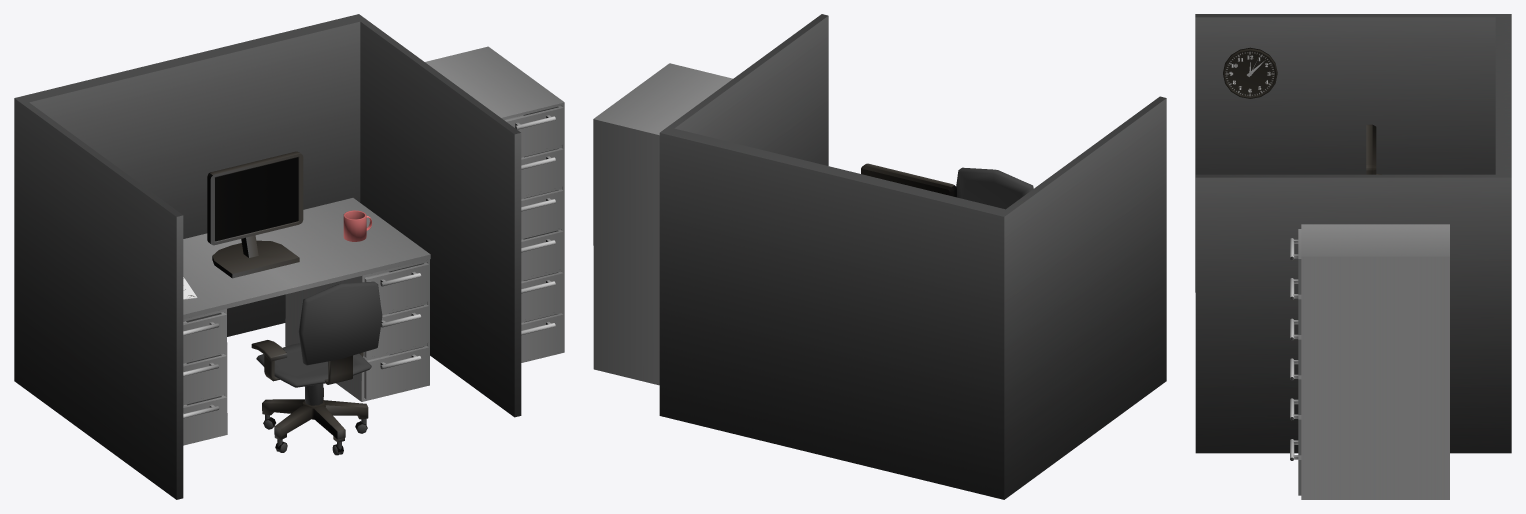
Rendered from office_cubicle.glb.
3 renders of one model, left to right at view 1: azimuth 30°, elevation 25°; view 2: azimuth 150°, elevation 25°; view 3: azimuth 270°, elevation 25°, orthographic. The views are drawn at different scales.
Visible parts, largest first — view 1: Cubiculo, Escritorio Cerrado, Archivador, Silla, Computador, Taza; view 2: Cubiculo, Archivador, Silla, Computador; view 3: Cubiculo, Archivador, Reloj, Computador.
Part boxes in pixels (left/top/right/bottom): Cubiculo: left=14, top=14, right=521, bottom=499; Escritorio Cerrado: left=183, top=198, right=430, bottom=445; Archivador: left=425, top=46, right=564, bottom=362; Silla: left=251, top=281, right=382, bottom=455; Computador: left=207, top=151, right=303, bottom=278; Taza: left=343, top=210, right=372, bottom=241; Cubiculo: left=659, top=14, right=1166, bottom=499; Archivador: left=593, top=63, right=732, bottom=385; Silla: left=956, top=167, right=1033, bottom=209; Computador: left=861, top=163, right=956, bottom=197; Cubiculo: left=1195, top=14, right=1511, bottom=453; Archivador: left=1290, top=224, right=1449, bottom=499; Reloj: left=1223, top=47, right=1277, bottom=98; Computador: left=1366, top=124, right=1381, bottom=174.
Bounding box in the file's own units: 13.09 × 8.01 × 8.32.
Materials: 6 (6 with a texture image).
